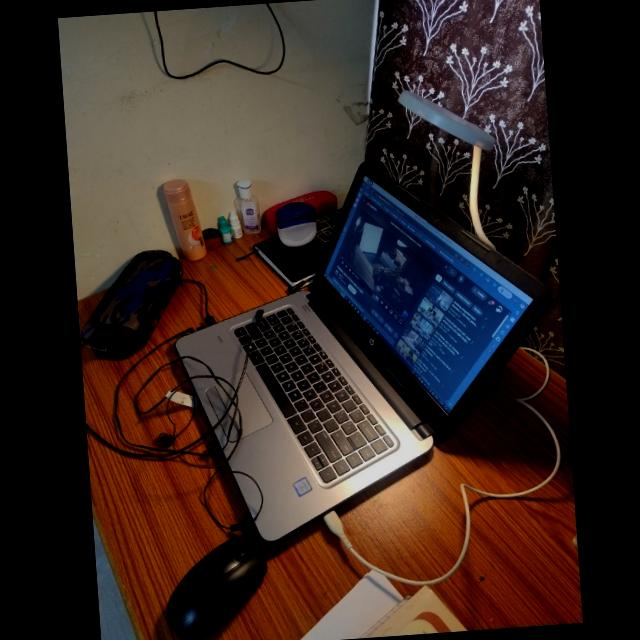laptop: (176, 164, 550, 540)
